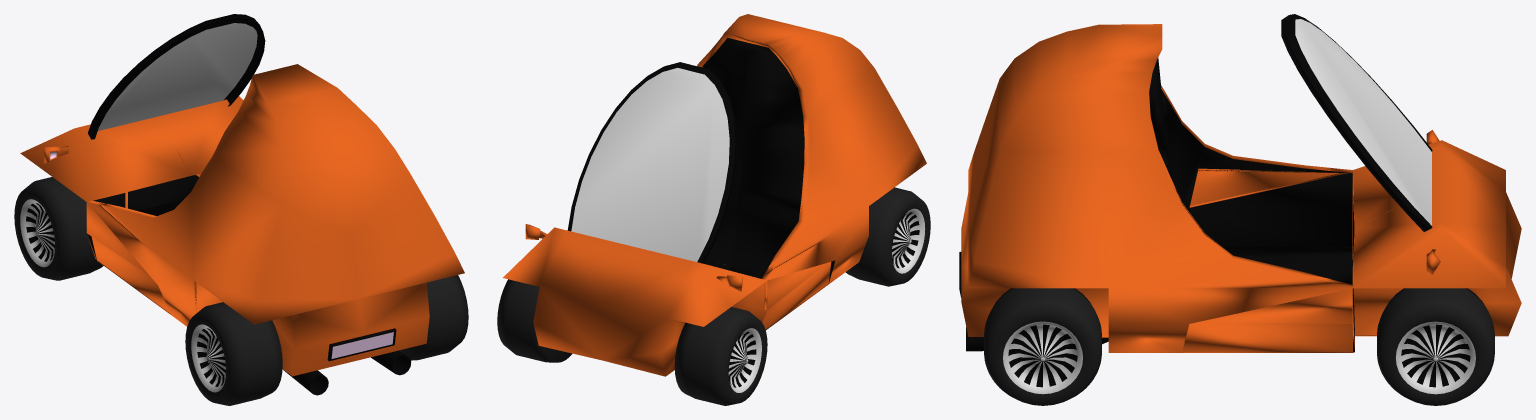
Rendered from coche.fbx.
The picture shows the model from 3 angles, left to right: view 1: azimuth 30°, elevation 25°; view 2: azimuth 150°, elevation 25°; view 3: azimuth 270°, elevation 25°; orthographic projection. The views are drawn at different scales.
Visible parts, largest first — view 1: Cuerpo, Cristal, rueda trasera izquiera, rueda delantera izquierda.001, rueda trasera derecha; view 2: Cuerpo, Cristal, rueda delantera izquierda.001, rueda trasera izquiera, rueda delantera derecha; view 3: Cuerpo, Cristal, rueda trasera derecha, rueda delantera derecha.
Boxes of the visible parts, <box> form: Cuerpo: <box>20,64,464,395</box>; Cristal: <box>88,14,265,139</box>; rueda trasera izquiera: <box>185,302,282,405</box>; rueda delantera izquierda.001: <box>14,177,103,280</box>; rueda trasera derecha: <box>399,275,468,360</box>; Cuerpo: <box>503,14,926,376</box>; Cristal: <box>567,62,736,263</box>; rueda delantera izquierda.001: <box>674,307,767,405</box>; rueda trasera izquiera: <box>845,187,930,286</box>; rueda delantera derecha: <box>497,279,571,362</box>; Cuerpo: <box>959,24,1521,352</box>; Cristal: <box>1281,14,1432,231</box>; rueda trasera derecha: <box>984,288,1101,405</box>; rueda delantera derecha: <box>1377,288,1494,405</box>.
Bounding box in the file's own units: 301 × 335 × 530.
